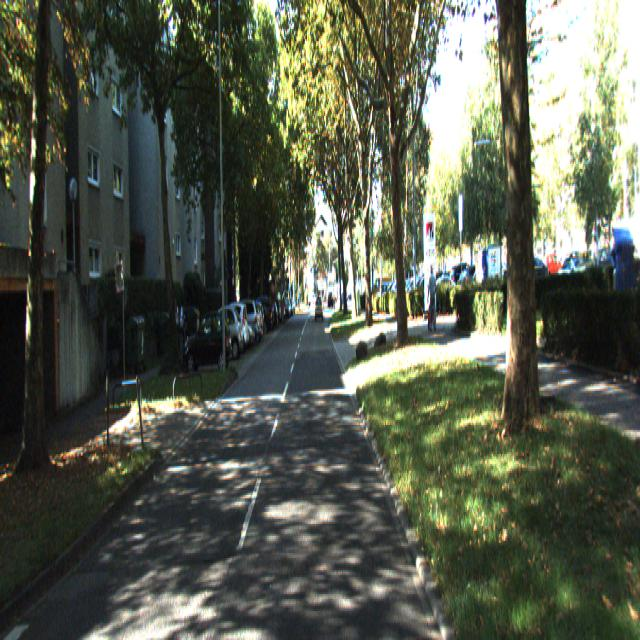Car: (183, 315, 233, 378), (203, 306, 244, 365)
